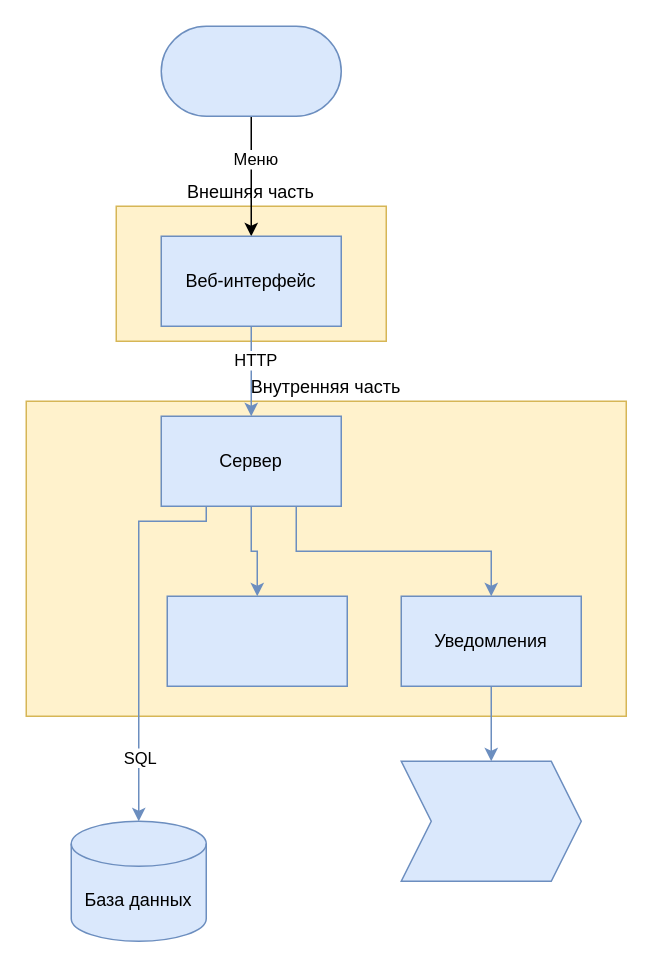
This 653x968 diagram has some shape labels left out. The centre of each missing label's shape, as x and y in pixels:
"Email/SMS" goes at point (490, 820).
"Аутентификация" goes at point (256, 640).
"Пользователи" goes at point (250, 70).
